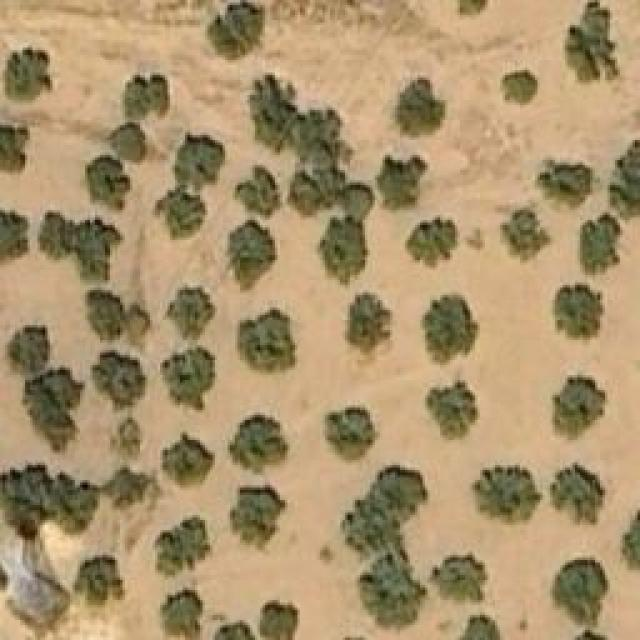Tree: (563, 0, 626, 85), (420, 293, 485, 368), (8, 468, 81, 533), (238, 300, 298, 373), (548, 373, 608, 443), (150, 515, 213, 580), (362, 560, 420, 630), (225, 415, 288, 475), (157, 348, 215, 413), (230, 483, 288, 548), (223, 218, 276, 288), (25, 370, 78, 438), (550, 283, 605, 348), (555, 555, 610, 620), (345, 293, 395, 363), (395, 77, 453, 135), (208, 0, 263, 60), (470, 468, 535, 518), (322, 408, 380, 463), (344, 503, 398, 562), (425, 383, 478, 443), (247, 80, 295, 145), (602, 145, 640, 225), (295, 108, 351, 162), (425, 553, 485, 603), (405, 215, 458, 270), (376, 463, 428, 518), (315, 215, 360, 278), (375, 158, 428, 211), (163, 433, 216, 486), (120, 68, 172, 121), (173, 135, 223, 190), (85, 155, 132, 210), (167, 285, 215, 338), (553, 463, 598, 518), (543, 163, 598, 206), (75, 218, 113, 278), (35, 208, 78, 261), (5, 48, 50, 98), (570, 215, 615, 265), (98, 353, 143, 403), (498, 210, 541, 258), (163, 588, 203, 638), (235, 162, 279, 207), (158, 188, 201, 233), (85, 288, 124, 337), (7, 325, 45, 375), (80, 558, 123, 601), (108, 120, 149, 163), (500, 70, 540, 108), (0, 210, 32, 257), (105, 473, 150, 506), (0, 123, 28, 176), (260, 602, 298, 640), (622, 508, 640, 581), (458, 612, 503, 640), (110, 420, 140, 460), (455, 0, 488, 18), (210, 625, 248, 640)
